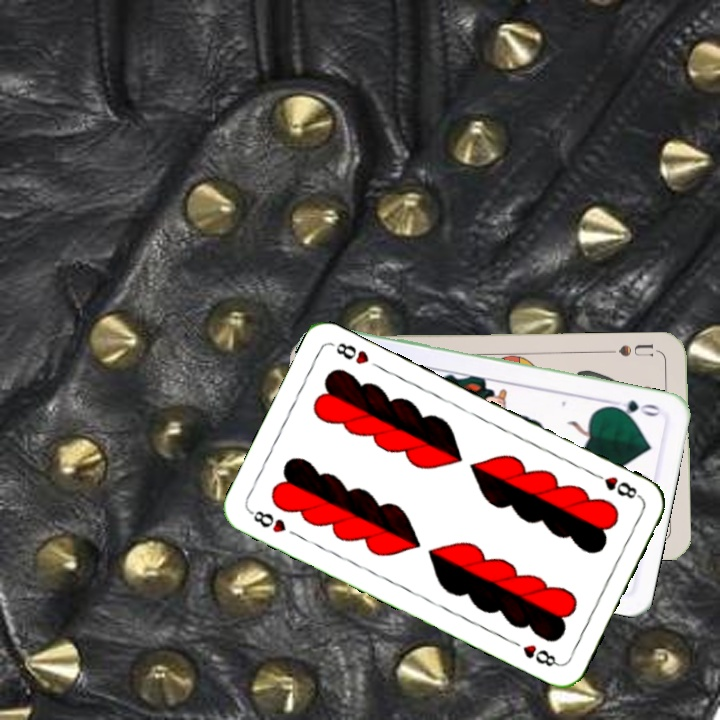GO: (605, 396, 664, 419)
H8: (588, 468, 643, 501), (245, 506, 289, 536)
SU: (603, 340, 656, 359)
